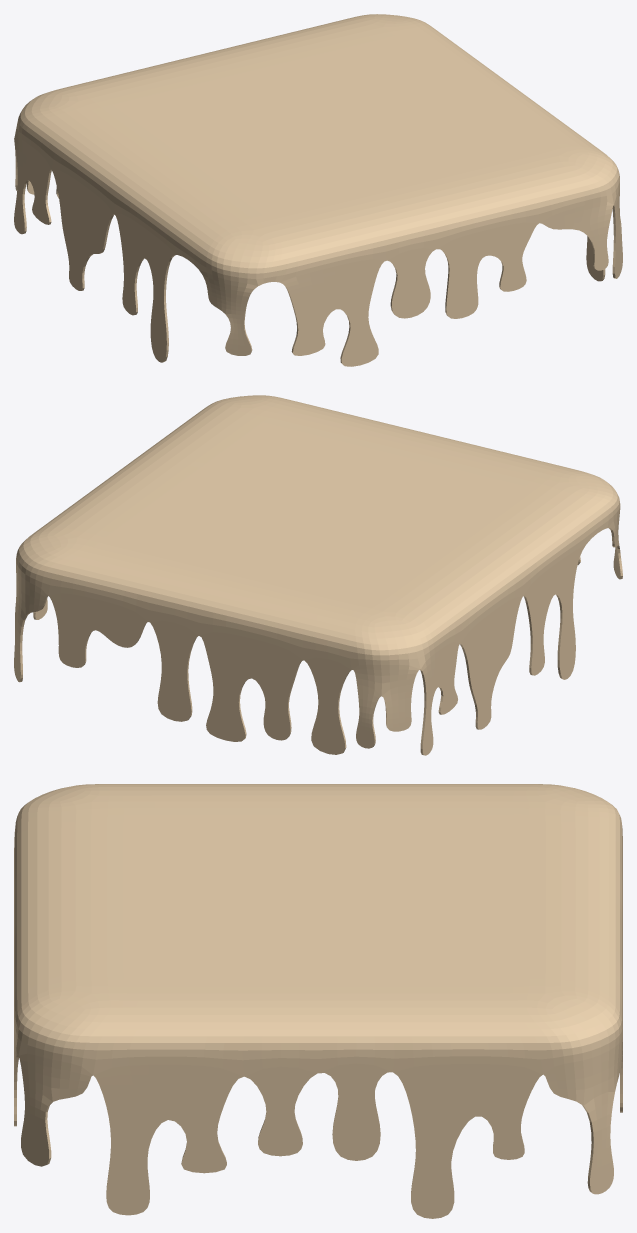
File: GlazeCream.glb
3 renders of one model, top to bottom at view 1: azimuth 30°, elevation 25°; view 2: azimuth 150°, elevation 25°; view 3: azimuth 270°, elevation 25°, orthographic. The views are drawn at different scales.
Parts seen in each view (by area): view 1: Cube.030; view 2: Cube.030; view 3: Cube.030.
Part boxes in pixels (x1,y1,x2,y2): Cube.030: (14,14,622,366); Cube.030: (14,395,622,755); Cube.030: (14,784,622,1218).
Size of the model in its own units: 1.99 by 0.7048 by 1.99.
